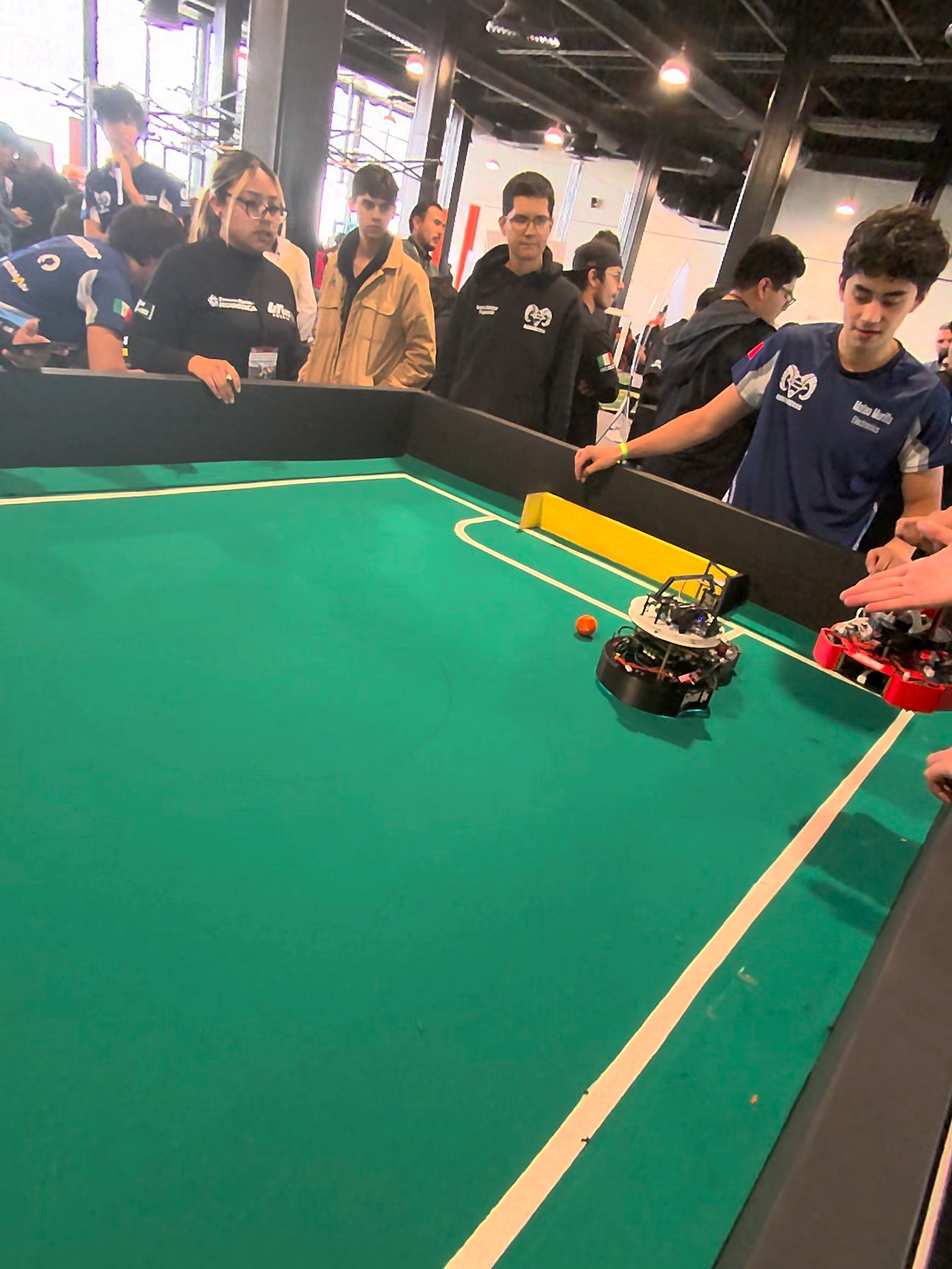Robot: (593, 556, 747, 736), (821, 559, 952, 707)
pelota: (574, 613, 599, 639)
